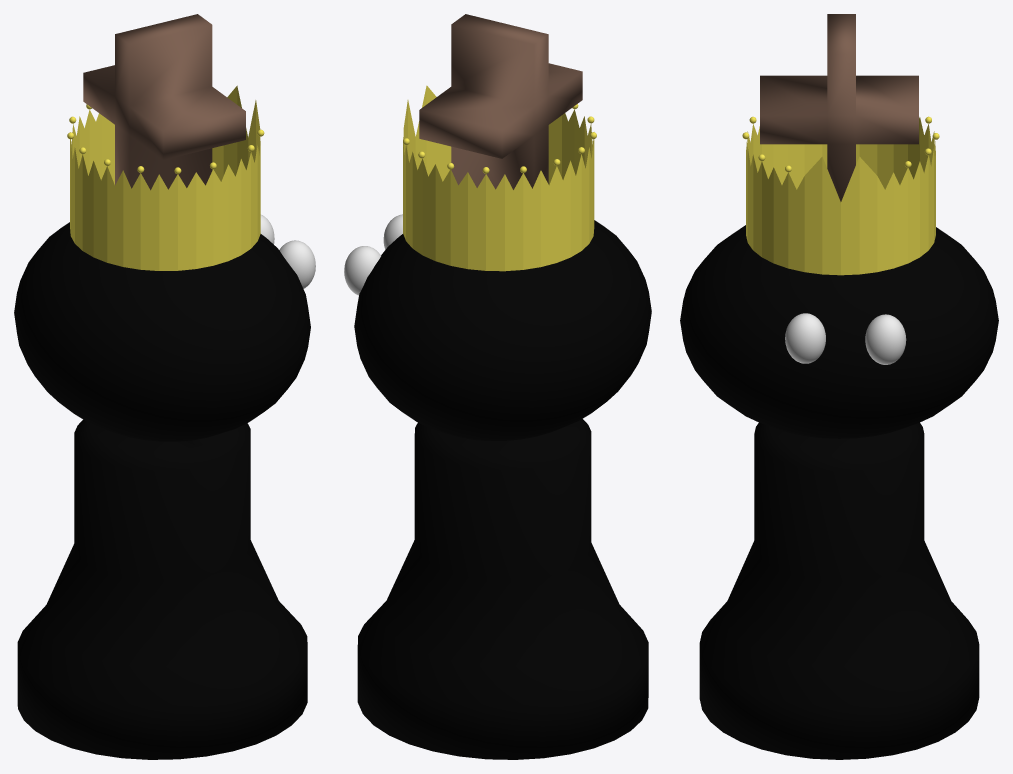
The model's file is BlackKing.fbx.
The picture shows the model from 3 angles, left to right: view 1: azimuth 30°, elevation 25°; view 2: azimuth 150°, elevation 25°; view 3: azimuth 270°, elevation 25°; orthographic projection.
Visible parts, largest first — view 1: WhiteKing; view 2: WhiteKing; view 3: WhiteKing.
Boxes of the visible parts, bbox=[...] form: WhiteKing: bbox=[14, 14, 315, 759]; WhiteKing: bbox=[344, 14, 651, 759]; WhiteKing: bbox=[680, 14, 998, 759].
Bounding box in the file's own units: 91.45 × 224 × 97.32.
